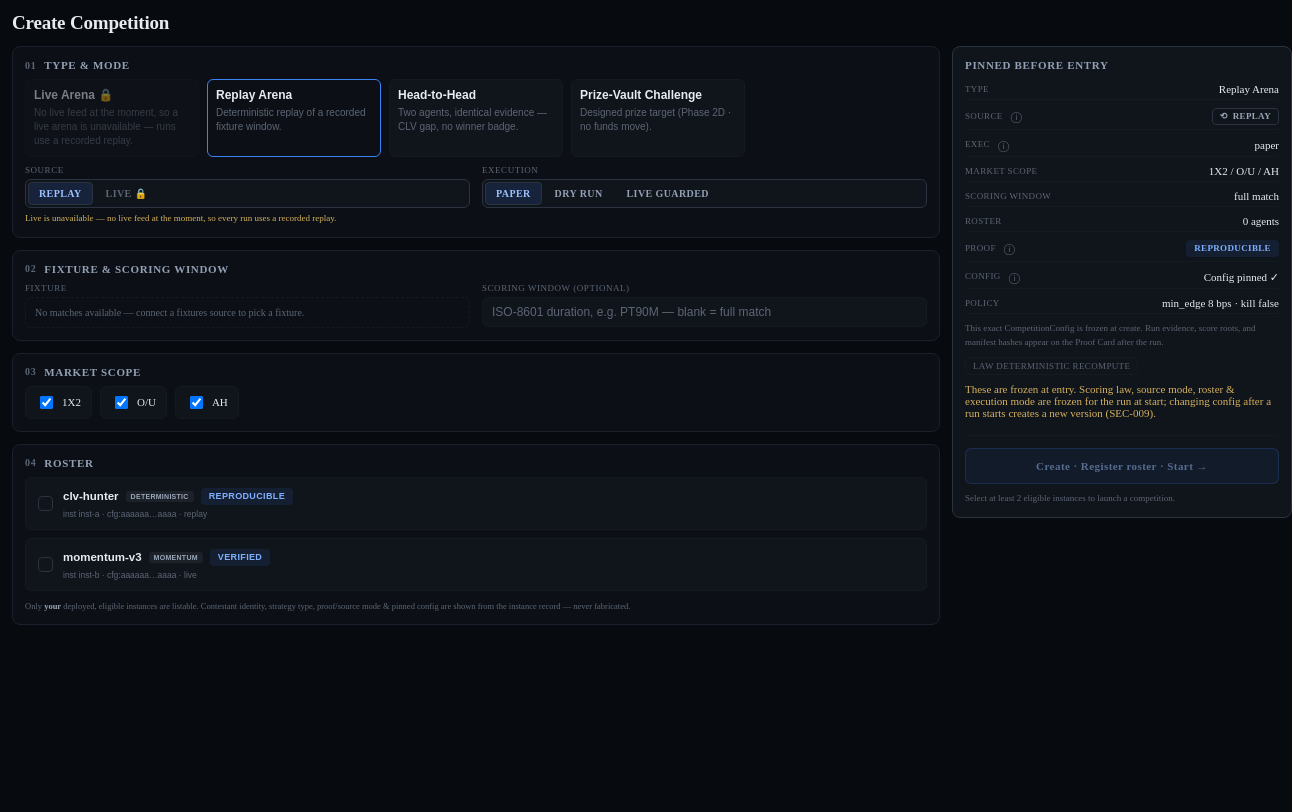
Test case: CreateCompetitionScreen — launch progression (F-4 · create→register→start) › create failure → honest error, NO run started, nothing fabricated
Click the button with test id "roster-inst-a".
click(91, 496)  # box x1=25 y1=477 x2=927 y2=530
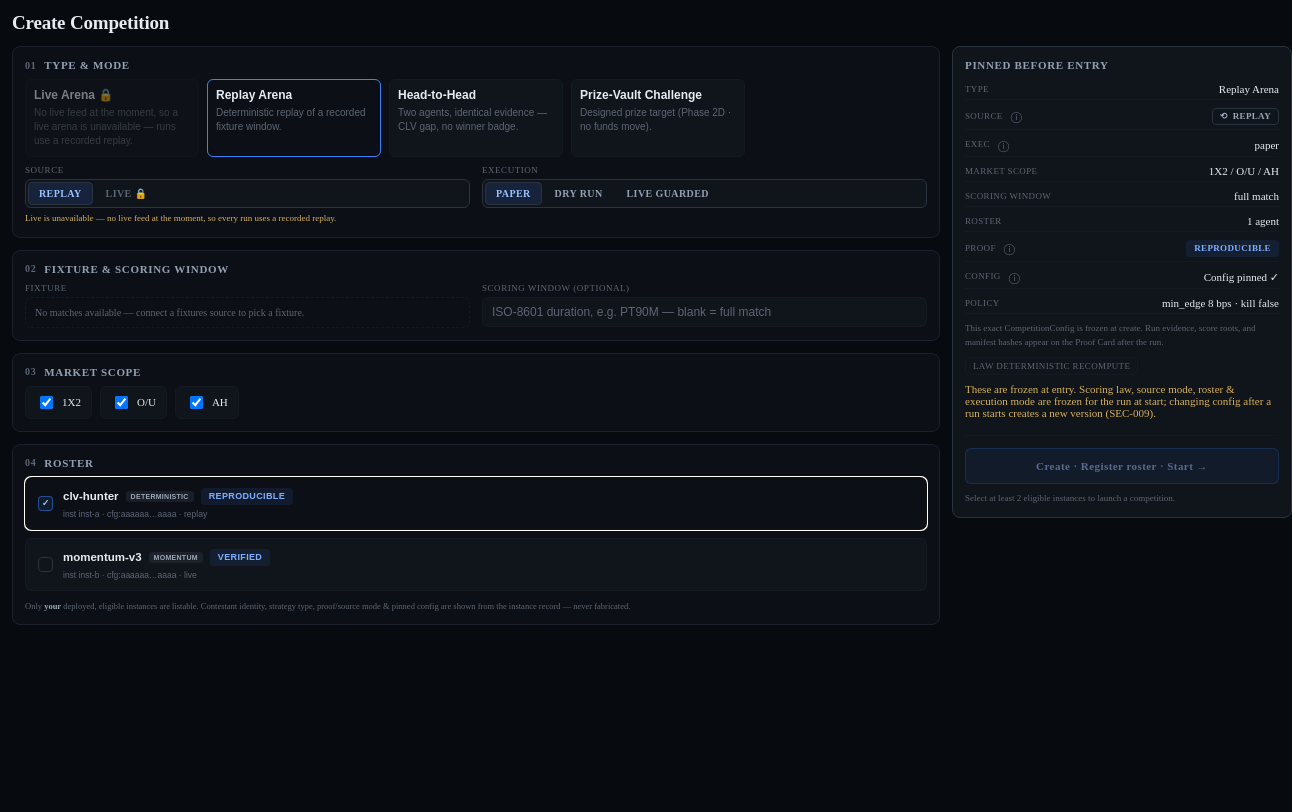
Click the button with test id "roster-inst-b".
click(102, 557)  # box x1=25 y1=538 x2=927 y2=591
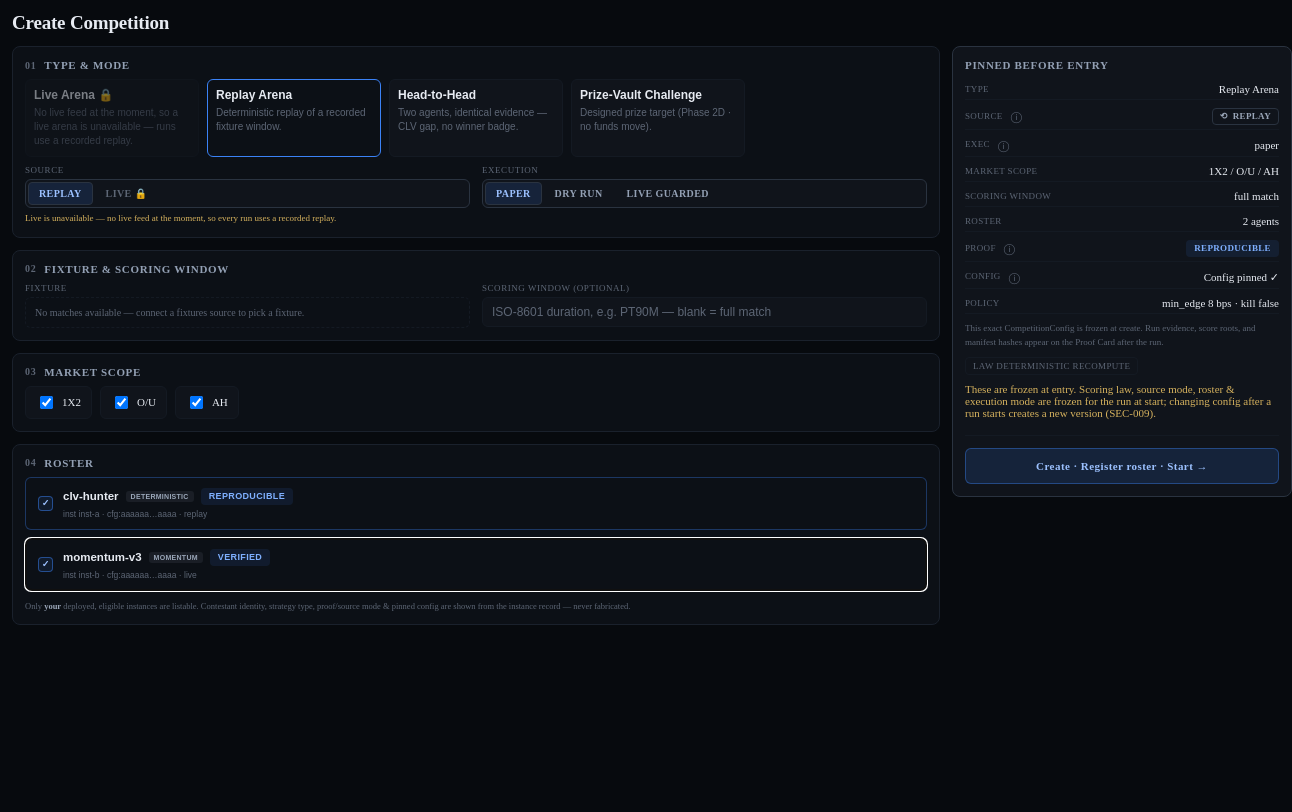
Click the button with test id "launch-button".
click(1122, 466)  # box x1=965 y1=448 x2=1279 y2=484
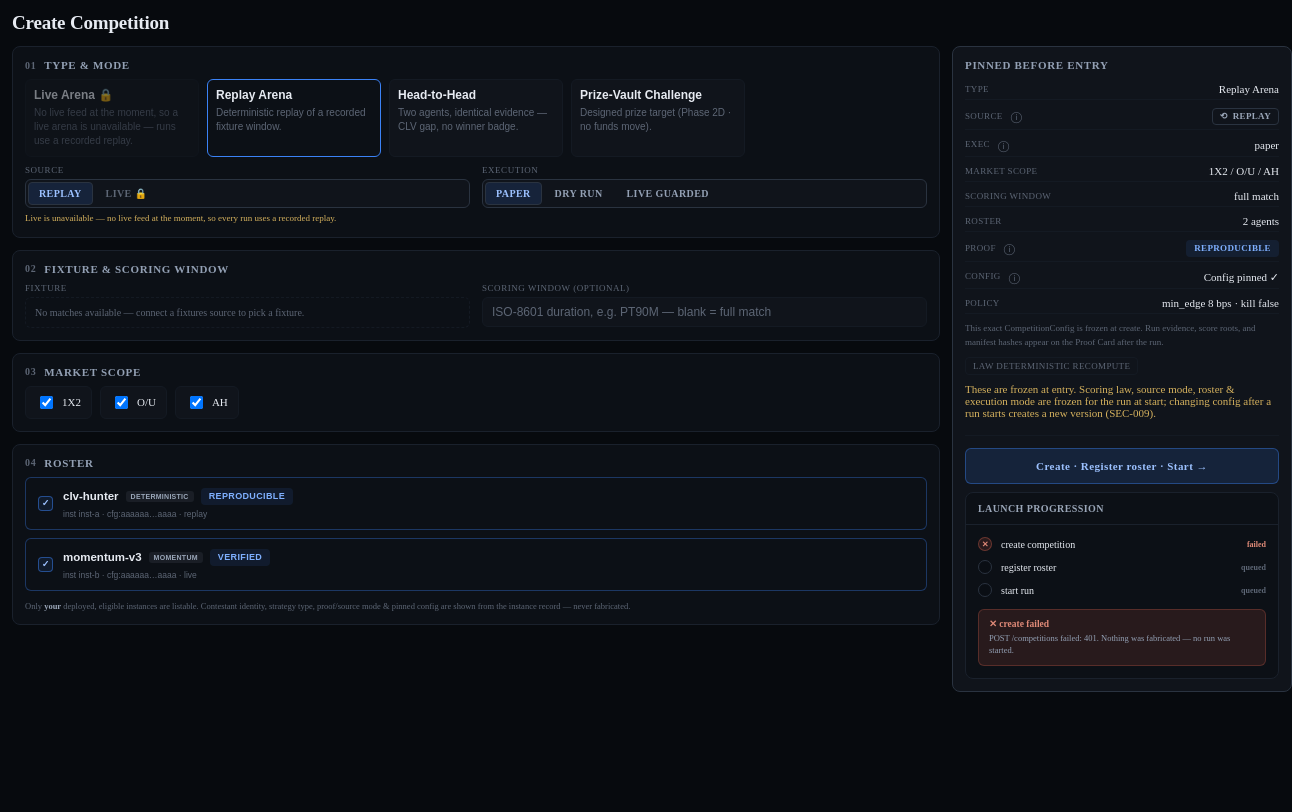
Check: the element with test id "launch-error" is shown, box x1=978 y1=609 x2=1266 y2=666
